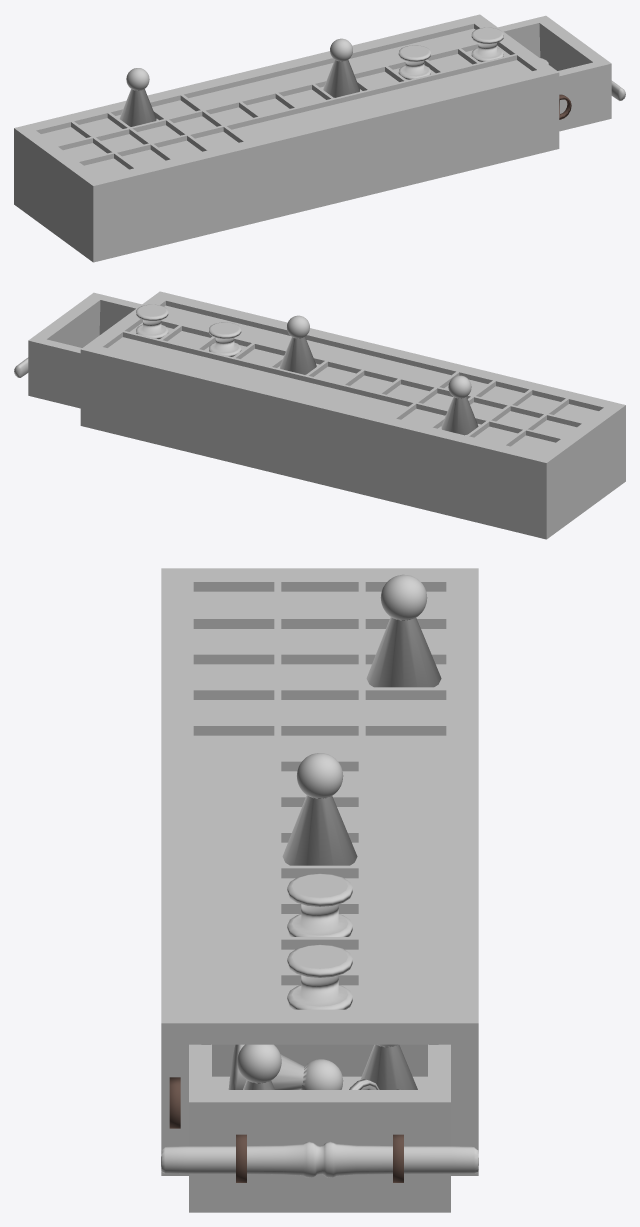
The model's file is VIEW_Senet.fbx.
3 renders of one model, top to bottom at view 1: azimuth 30°, elevation 25°; view 2: azimuth 150°, elevation 25°; view 3: azimuth 270°, elevation 25°, orthographic. The views are drawn at different scales.
Parts seen in each view (by area): view 1: Cube, Cube.003, Cylinder.012, Cylinder.003, Cylinder.011, Cylinder.004; view 2: Cube, Cube.003, Cylinder.012, Cylinder.003, Cylinder.011, Cylinder.004; view 3: Cube, Cube.003, Cylinder.001, Cylinder.012, Cylinder.003, Cylinder.004, Cylinder.011, Cylinder.010, Cylinder.009, Cylinder.007, Cylinder.
Boxes of the visible parts, x1,y1,x2,y2 form: Cube: (14,14,559,262); Cube.003: (498,15,611,131); Cylinder.012: (119,68,156,126); Cylinder.003: (323,38,359,97); Cylinder.011: (398,45,430,79); Cylinder.004: (471,27,503,62); Cube: (80,291,625,539); Cube.003: (28,292,141,408); Cylinder.012: (441,375,478,435); Cylinder.003: (280,315,316,374); Cylinder.011: (209,322,241,356); Cylinder.004: (136,304,168,339); Cube: (161,568,478,1175); Cube.003: (189,1044,450,1212); Cylinder.001: (161,1141,478,1177); Cylinder.012: (366,574,441,687); Cylinder.003: (282,753,357,865); Cylinder.004: (287,944,352,1009); Cylinder.011: (287,873,352,936); Cylinder.010: (228,1044,343,1089); Cylinder.009: (360,1044,417,1089); Cylinder.007: (237,1044,281,1089); Cylinder: (236,1134,403,1182).
Bounding box in the file's own units: 1468 × 323 × 377.
